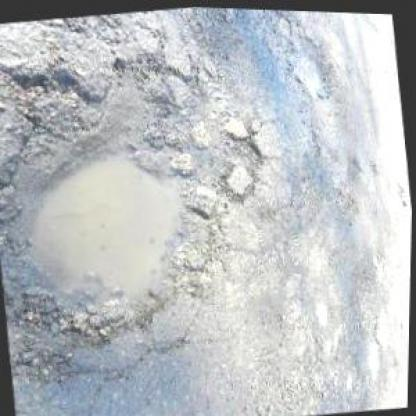pothole: (0, 44, 248, 365), (222, 123, 269, 175)
